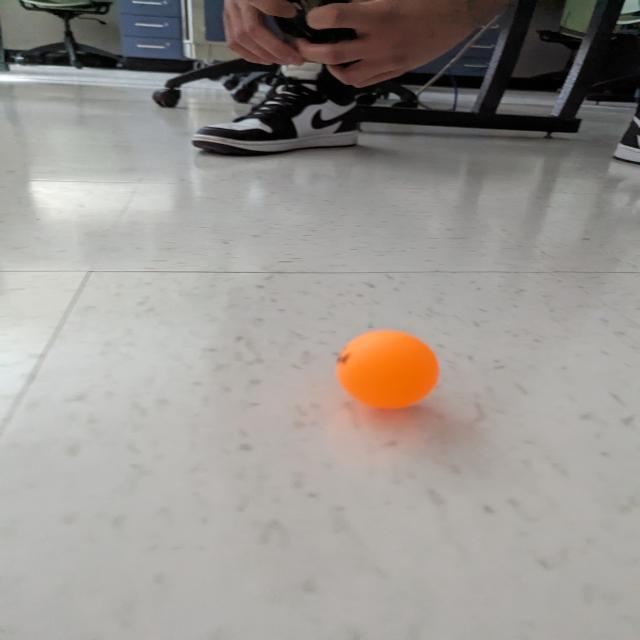ping-pong-ball: (330, 322, 450, 416)
